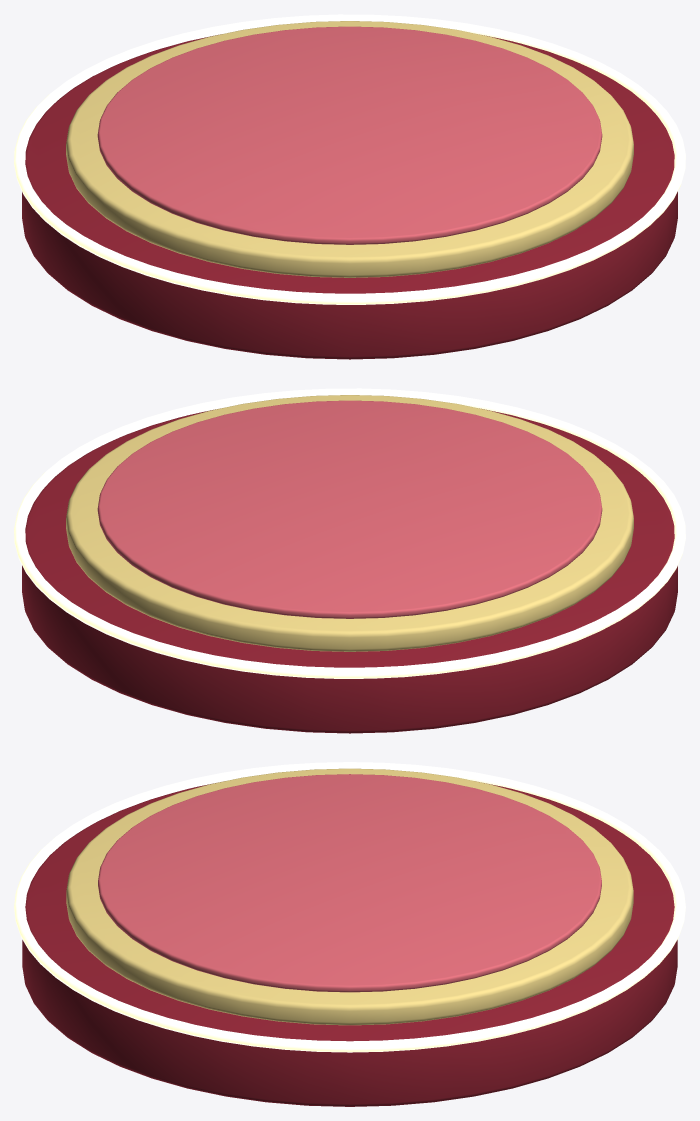
The model's file is podium-ballondor-medium.glb.
The picture shows the model from 3 angles, top to bottom: view 1: azimuth 30°, elevation 25°; view 2: azimuth 150°, elevation 25°; view 3: azimuth 270°, elevation 25°; orthographic projection.
Parts seen in each view (by area): view 1: deck, base, top, Torus; view 2: deck, base, top, Torus; view 3: deck, base, top, Torus.
Part boxes in pixels (bbox=[...]): deck: bbox=[97, 26, 602, 244]; base: bbox=[22, 34, 677, 359]; top: bbox=[66, 21, 633, 277]; Torus: bbox=[14, 14, 685, 304]; deck: bbox=[97, 400, 602, 618]; base: bbox=[22, 408, 677, 733]; top: bbox=[66, 395, 633, 651]; Torus: bbox=[14, 388, 685, 678]; deck: bbox=[98, 774, 601, 992]; base: bbox=[22, 783, 677, 1106]; top: bbox=[66, 768, 633, 1025]; Torus: bbox=[14, 762, 685, 1052].
Size of the model in its own units: 5.33 by 0.7899 by 5.33.
